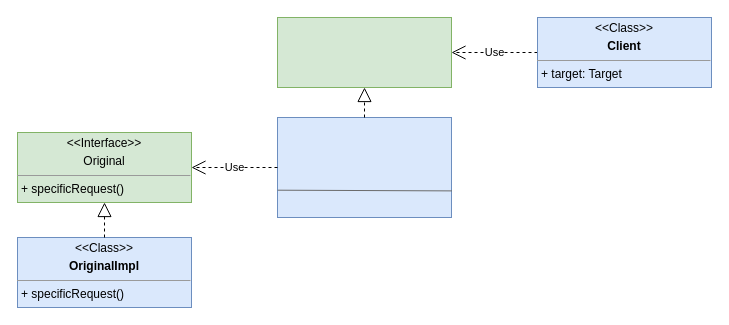
Some shapes in this 729 by 325 pixel diagram are drawn without their labels. The centre of each missing label's shape, as x and y in pixels:
"<<Class>> OriginalToTargetAdapter + original: Original + request()" goes at point 364,167.
"<<Interface>> Target + request()" goes at point 364,52.
